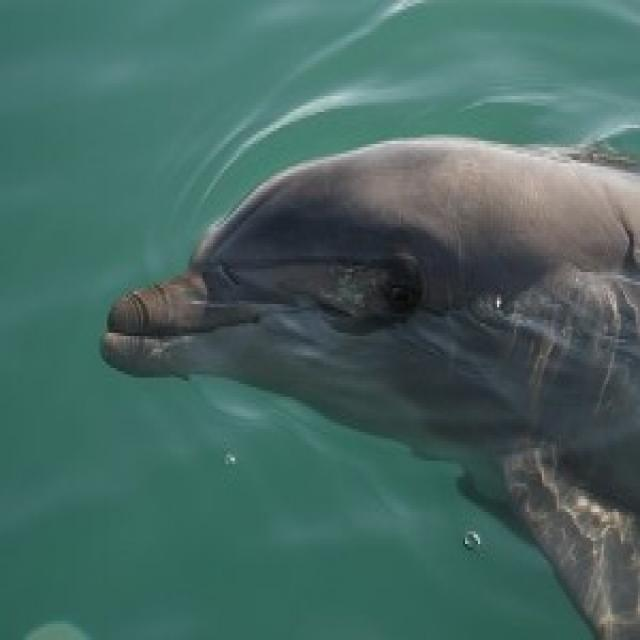Dolphin: (90, 130, 640, 638)
